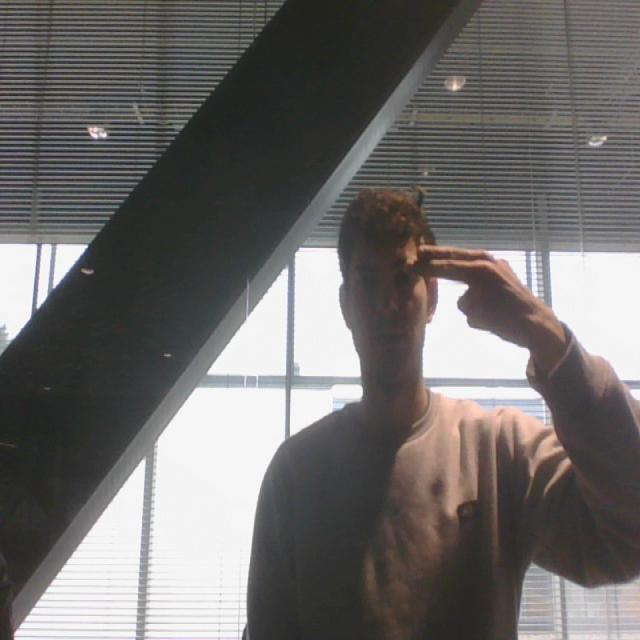left: (411, 222, 569, 367)
